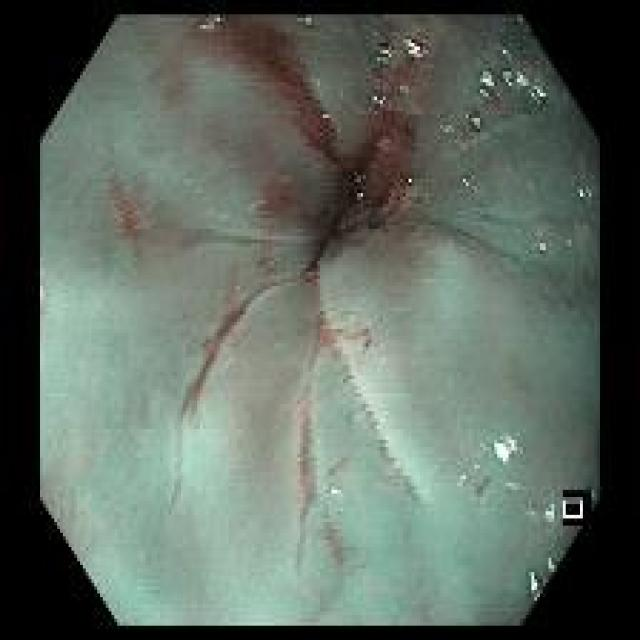blood: (201, 18, 374, 280)
color misalignment: (563, 501, 583, 524)
specularity: (503, 72, 547, 102), (492, 435, 518, 466), (404, 39, 429, 62), (548, 86, 570, 107), (464, 110, 482, 129), (531, 572, 542, 603), (202, 18, 222, 31), (481, 71, 495, 89), (543, 505, 556, 524), (505, 483, 525, 494), (453, 474, 467, 489), (380, 44, 395, 57), (578, 188, 592, 200), (444, 128, 460, 138), (500, 49, 512, 61), (547, 556, 556, 572), (332, 485, 343, 498), (461, 177, 472, 189), (297, 18, 311, 27), (374, 58, 388, 67), (479, 89, 490, 100), (353, 191, 365, 201), (532, 244, 548, 251), (407, 177, 418, 187), (372, 100, 384, 108)
